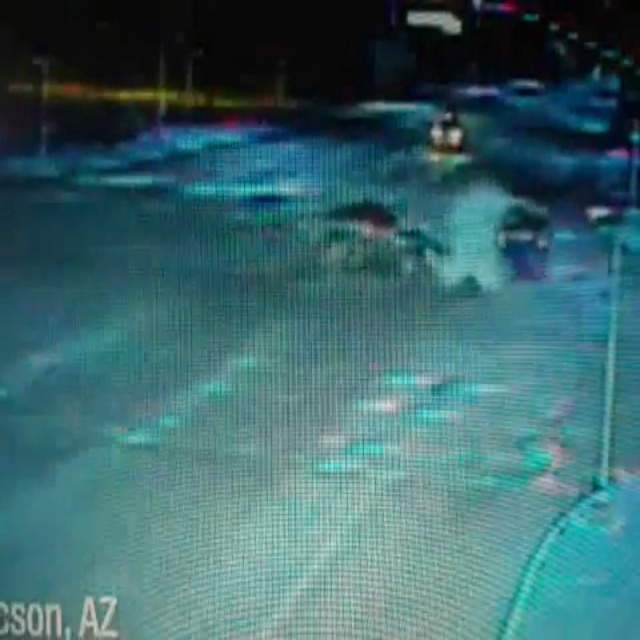acc: (271, 179, 553, 288)
